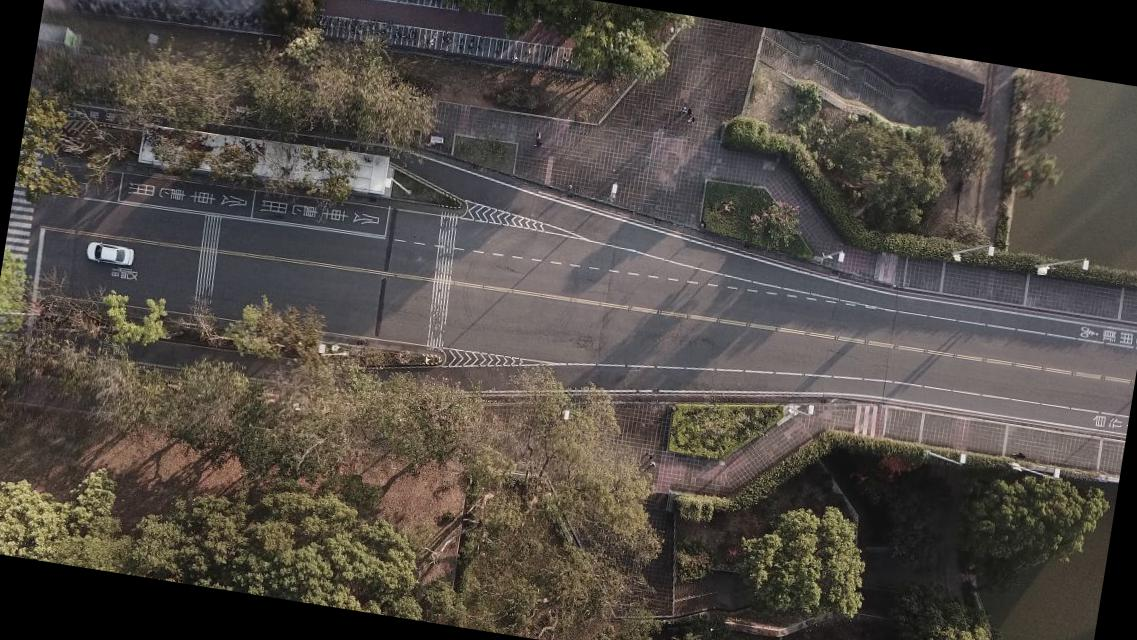vehicle: (85, 239, 136, 268)
